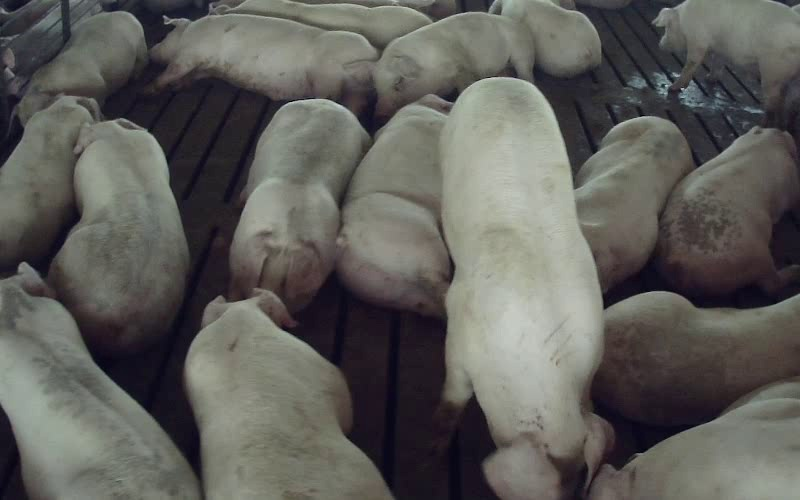pig: (439, 78, 611, 499), (185, 289, 391, 499), (49, 119, 188, 354), (229, 99, 369, 312), (592, 292, 799, 423), (589, 376, 799, 499), (336, 95, 451, 316), (656, 127, 799, 294), (145, 14, 375, 114), (574, 116, 693, 291), (342, 12, 534, 120), (0, 96, 100, 270), (653, 0, 799, 110), (17, 11, 147, 125), (213, 0, 431, 48), (489, 0, 601, 77)
